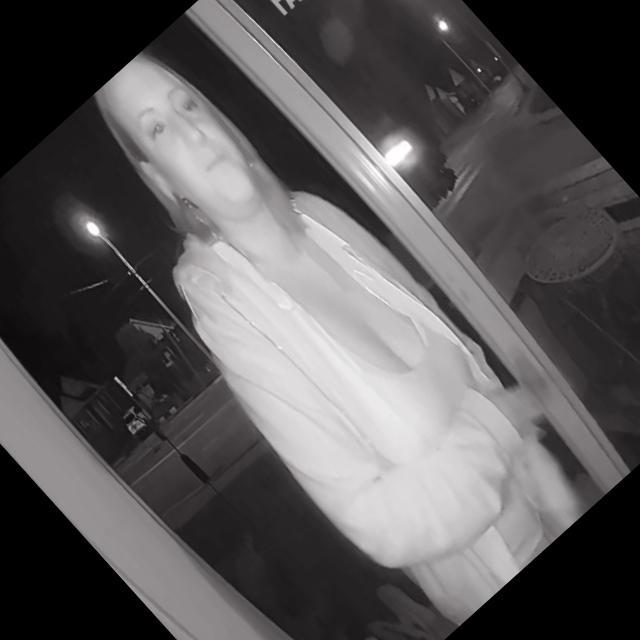person: (13, 2, 623, 640)
